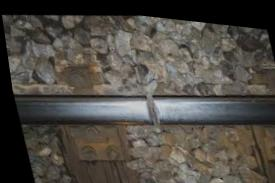person: (114, 69, 185, 145)
